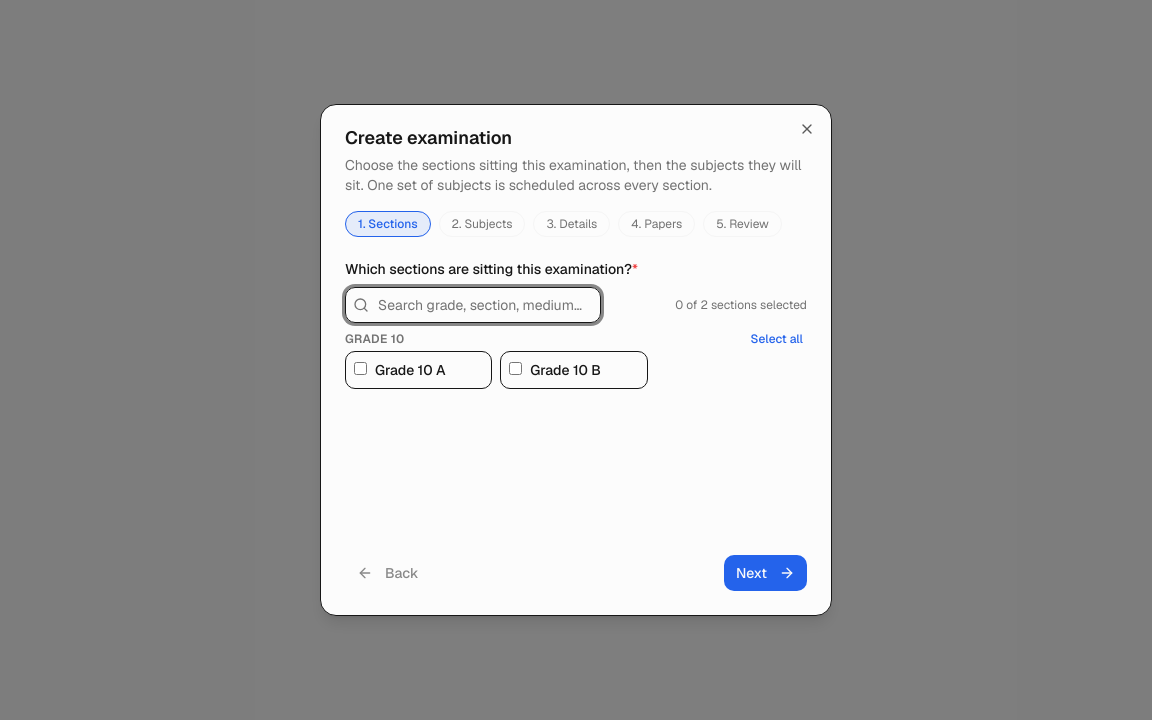
create examination wizard › refuses to move on with no subject chosen
The image size is (1152, 720).
Step 1. Click the checkbox labelled "Grade 10 A" → (360, 368), box [354,362,367,375]
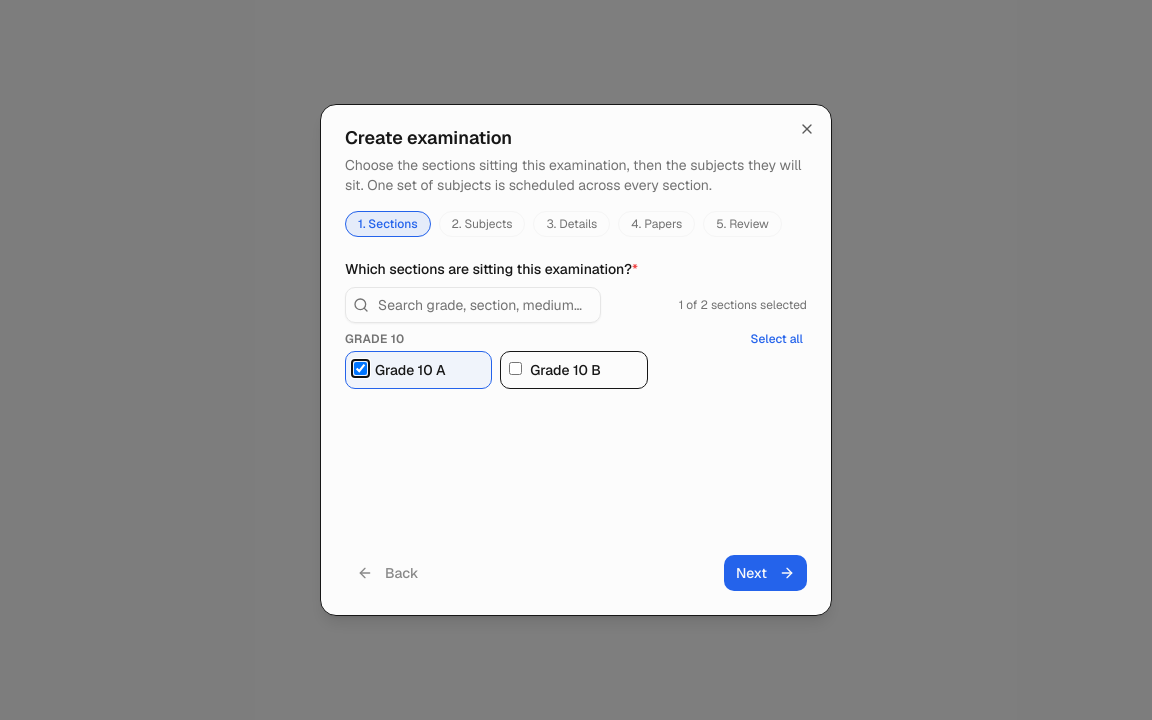
Step 2. Click the button "Next" → (765, 573), box [724,555,807,591]
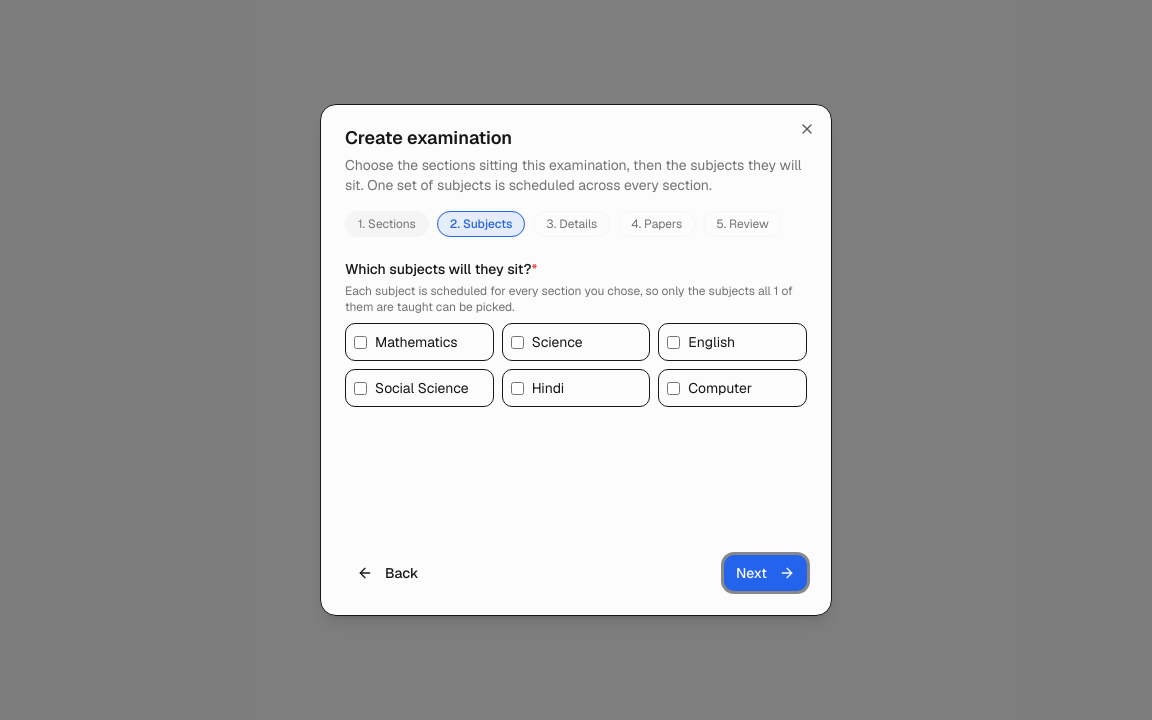
Step 3. Click the button "Next" → (765, 573), box [724,555,807,591]
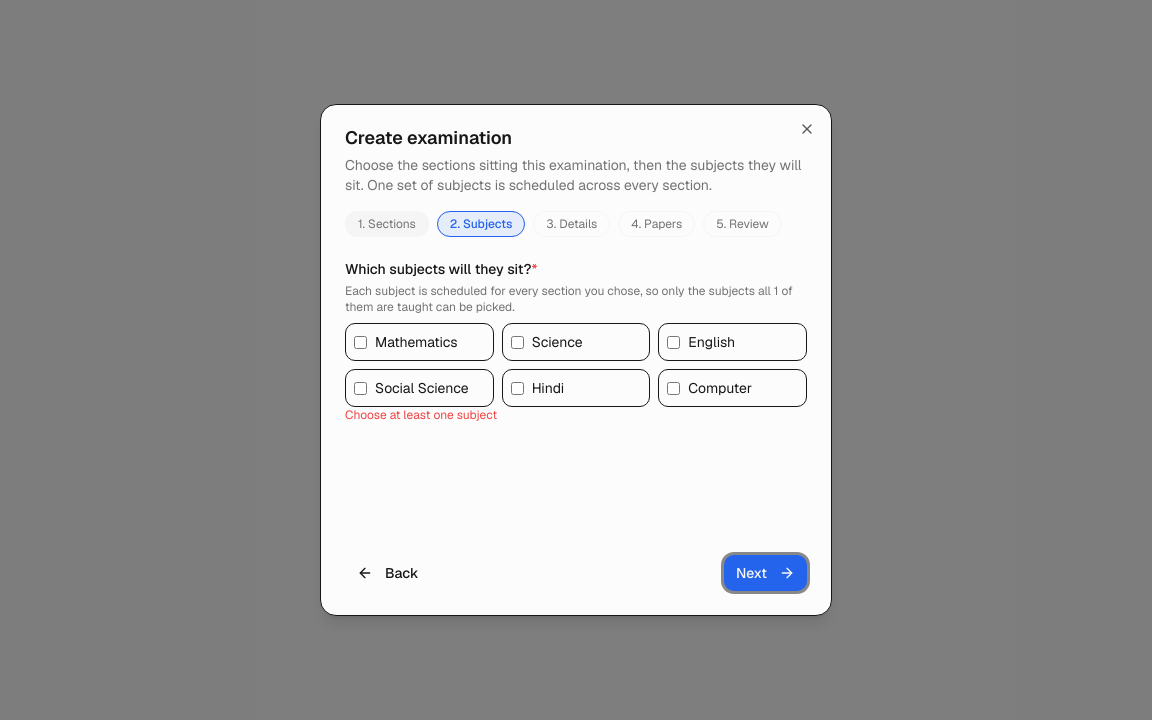
Now the text "Choose at least one subject" is shown, box [345,407,497,423]
